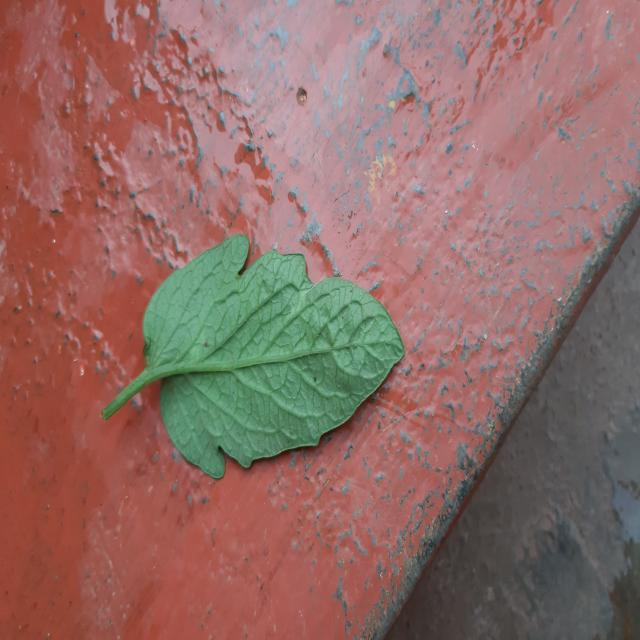defectedtomato: (284, 256, 398, 444)
tomato: (102, 233, 404, 478)
